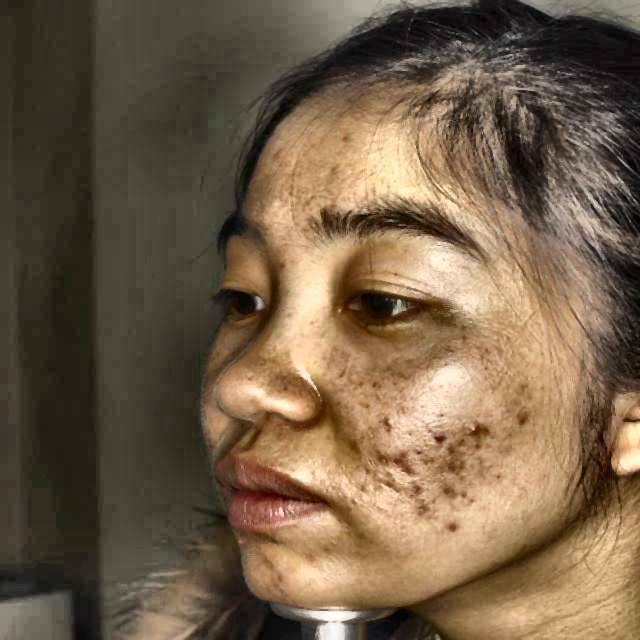pustule: (399, 476, 434, 512), (259, 549, 284, 581), (393, 447, 419, 472), (443, 455, 473, 476), (438, 478, 461, 505), (445, 506, 464, 538), (303, 542, 336, 560), (465, 418, 489, 438), (380, 414, 402, 431), (331, 131, 355, 143), (274, 140, 281, 164)
